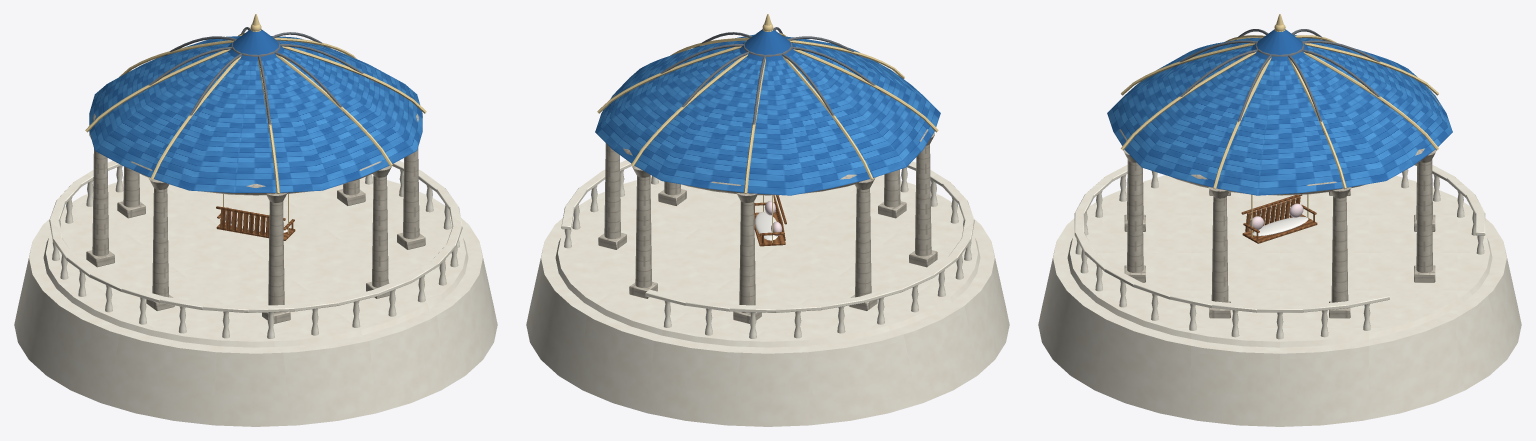
Rendered from cliffside_gazebo.glb.
3 views of the same model, side by side, from view 1: azimuth 30°, elevation 25°; view 2: azimuth 150°, elevation 25°; view 3: azimuth 270°, elevation 25° (orthographic).
Parts seen in each view (by area): view 1: Gaz_TerraceBalustrade, Gaz_DomeRoof, Gaz_ColumnsEntablature, Gaz_BrassFinial, Gaz_WroughtDome, GazSwing_CedarSeat; view 2: Gaz_TerraceBalustrade, Gaz_DomeRoof, Gaz_ColumnsEntablature, Gaz_BrassFinial, Gaz_WroughtDome, GazSwing_CedarSeat; view 3: Gaz_TerraceBalustrade, Gaz_DomeRoof, Gaz_ColumnsEntablature, Gaz_BrassFinial, Gaz_WroughtDome, GazSwing_CedarSeat, GazSwing_LinenCushion.
Part boxes in pixels (x1,y1,x2,y2): Gaz_TerraceBalustrade: [14, 160, 497, 426]; Gaz_DomeRoof: [89, 29, 422, 192]; Gaz_ColumnsEntablature: [86, 113, 425, 323]; Gaz_BrassFinial: [85, 14, 426, 193]; Gaz_WroughtDome: [135, 27, 376, 128]; GazSwing_CedarSeat: [216, 206, 295, 240]; Gaz_TerraceBalustrade: [526, 160, 1009, 426]; Gaz_DomeRoof: [595, 29, 940, 195]; Gaz_ColumnsEntablature: [598, 94, 937, 323]; Gaz_BrassFinial: [597, 14, 938, 193]; Gaz_WroughtDome: [647, 27, 888, 129]; GazSwing_CedarSeat: [754, 195, 786, 246]; Gaz_TerraceBalustrade: [1038, 163, 1521, 426]; Gaz_DomeRoof: [1107, 29, 1452, 195]; Gaz_ColumnsEntablature: [1119, 94, 1439, 318]; Gaz_BrassFinial: [1121, 14, 1438, 189]; Gaz_WroughtDome: [1167, 29, 1392, 134]; GazSwing_CedarSeat: [1241, 194, 1317, 243]; GazSwing_LinenCushion: [1252, 216, 1308, 236].
Bounding box in the file's own units: 12.1 × 8.57 × 12.1.
Materials: 9 (4 with a texture image).
